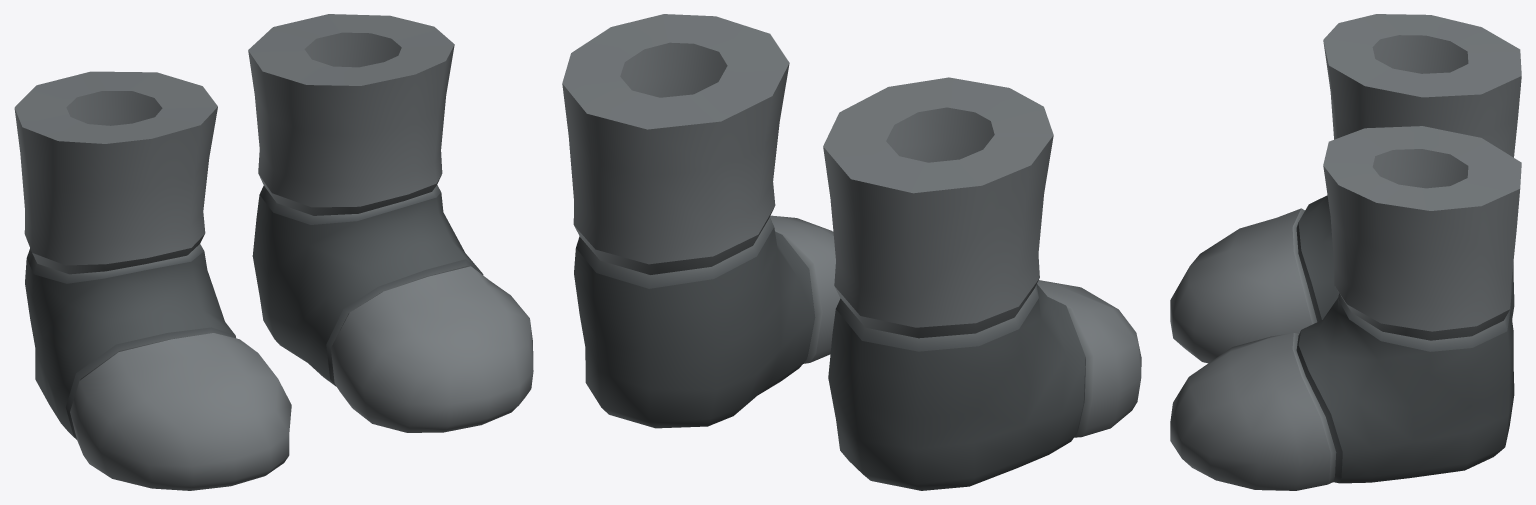
The model's file is Costume_9_05.glb.
3 views of the same model, side by side, from view 1: azimuth 30°, elevation 25°; view 2: azimuth 150°, elevation 25°; view 3: azimuth 270°, elevation 25° (orthographic). The views are drawn at different scales.
Visible parts, largest first — view 1: Costume_9_05; view 2: Costume_9_05; view 3: Costume_9_05.
Boxes of the visible parts, x1,y1,x2,y2 form: Costume_9_05: (14, 14, 533, 490); Costume_9_05: (562, 14, 1141, 490); Costume_9_05: (1170, 14, 1521, 490).
Bounding box in the file's own units: 0.2516 × 0.1631 × 0.1796.
Materials: 1 (1 with a texture image).
